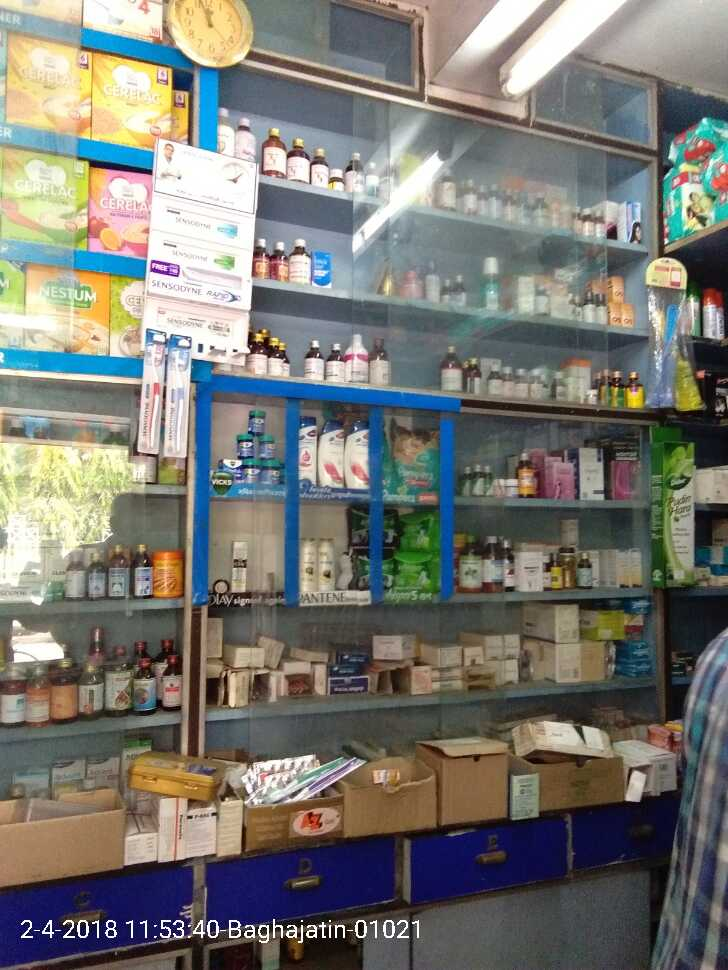oralcare: (163, 335, 190, 455), (140, 329, 160, 453)
vicks: (219, 458, 244, 485), (261, 460, 281, 483), (244, 458, 261, 483), (260, 434, 276, 459), (248, 410, 264, 433), (240, 434, 255, 457)
